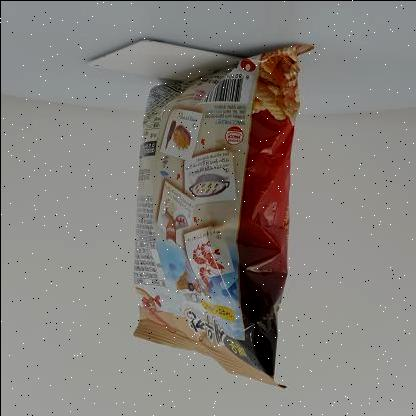Others: (116, 38, 324, 394)
